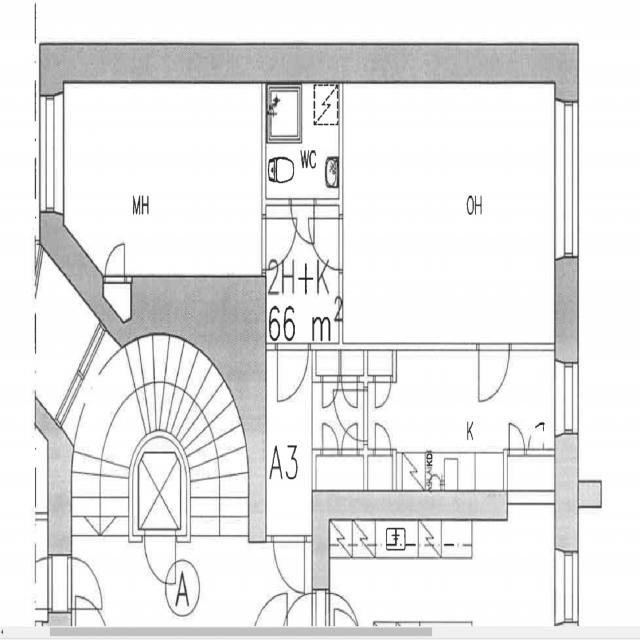door: (333, 390, 368, 440), (308, 219, 343, 269), (274, 534, 304, 592), (262, 218, 296, 269), (278, 343, 308, 400), (478, 343, 508, 400), (291, 198, 314, 243), (105, 245, 124, 283), (342, 375, 358, 407), (342, 423, 357, 455), (323, 375, 338, 406), (510, 424, 524, 456), (376, 423, 390, 455), (376, 376, 390, 408), (323, 425, 337, 455)
